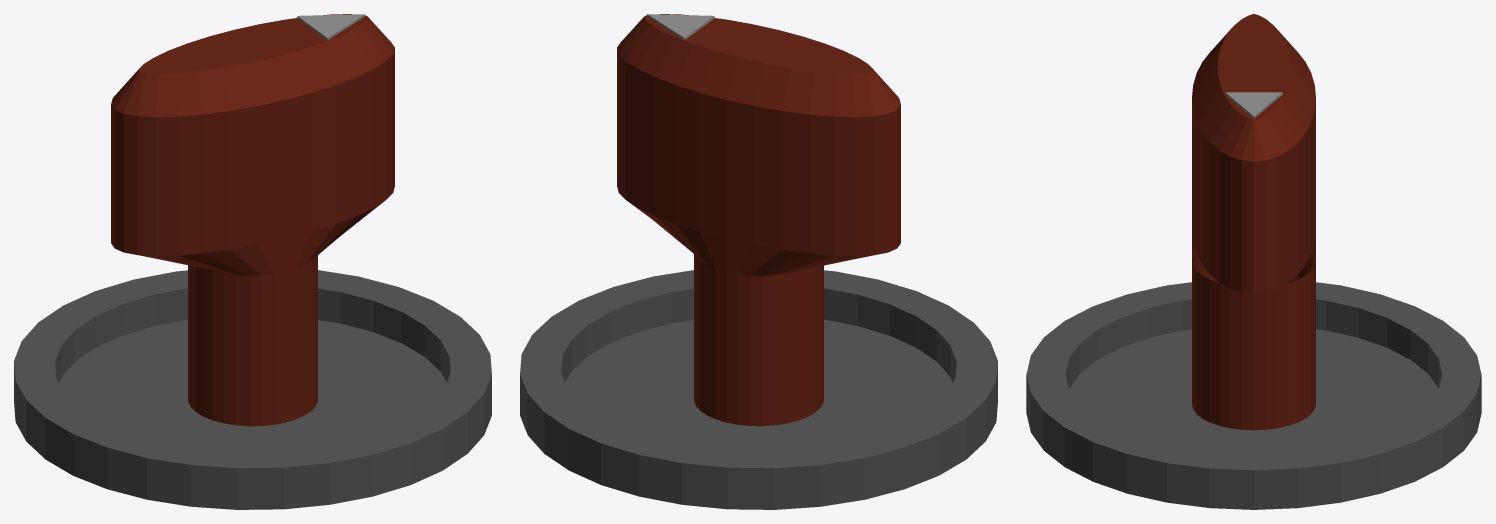
Rendered from Starter.fbx.
3 views of the same model, side by side, from view 1: azimuth 30°, elevation 25°; view 2: azimuth 150°, elevation 25°; view 3: azimuth 270°, elevation 25° (orthographic). The views are drawn at different scales.
Visible parts, largest first — view 1: Cube, Cylinder; view 2: Cube, Cylinder; view 3: Cylinder, Cube.
Part boxes in pixels (bbox=[...]): Cube: bbox=[111, 14, 394, 426]; Cylinder: bbox=[14, 270, 491, 509]; Cube: bbox=[617, 14, 900, 426]; Cylinder: bbox=[520, 270, 997, 509]; Cylinder: bbox=[1026, 282, 1481, 509]; Cube: bbox=[1192, 14, 1315, 430].
Bounding box in the file's own units: 45.26 × 38.32 × 45.26.
